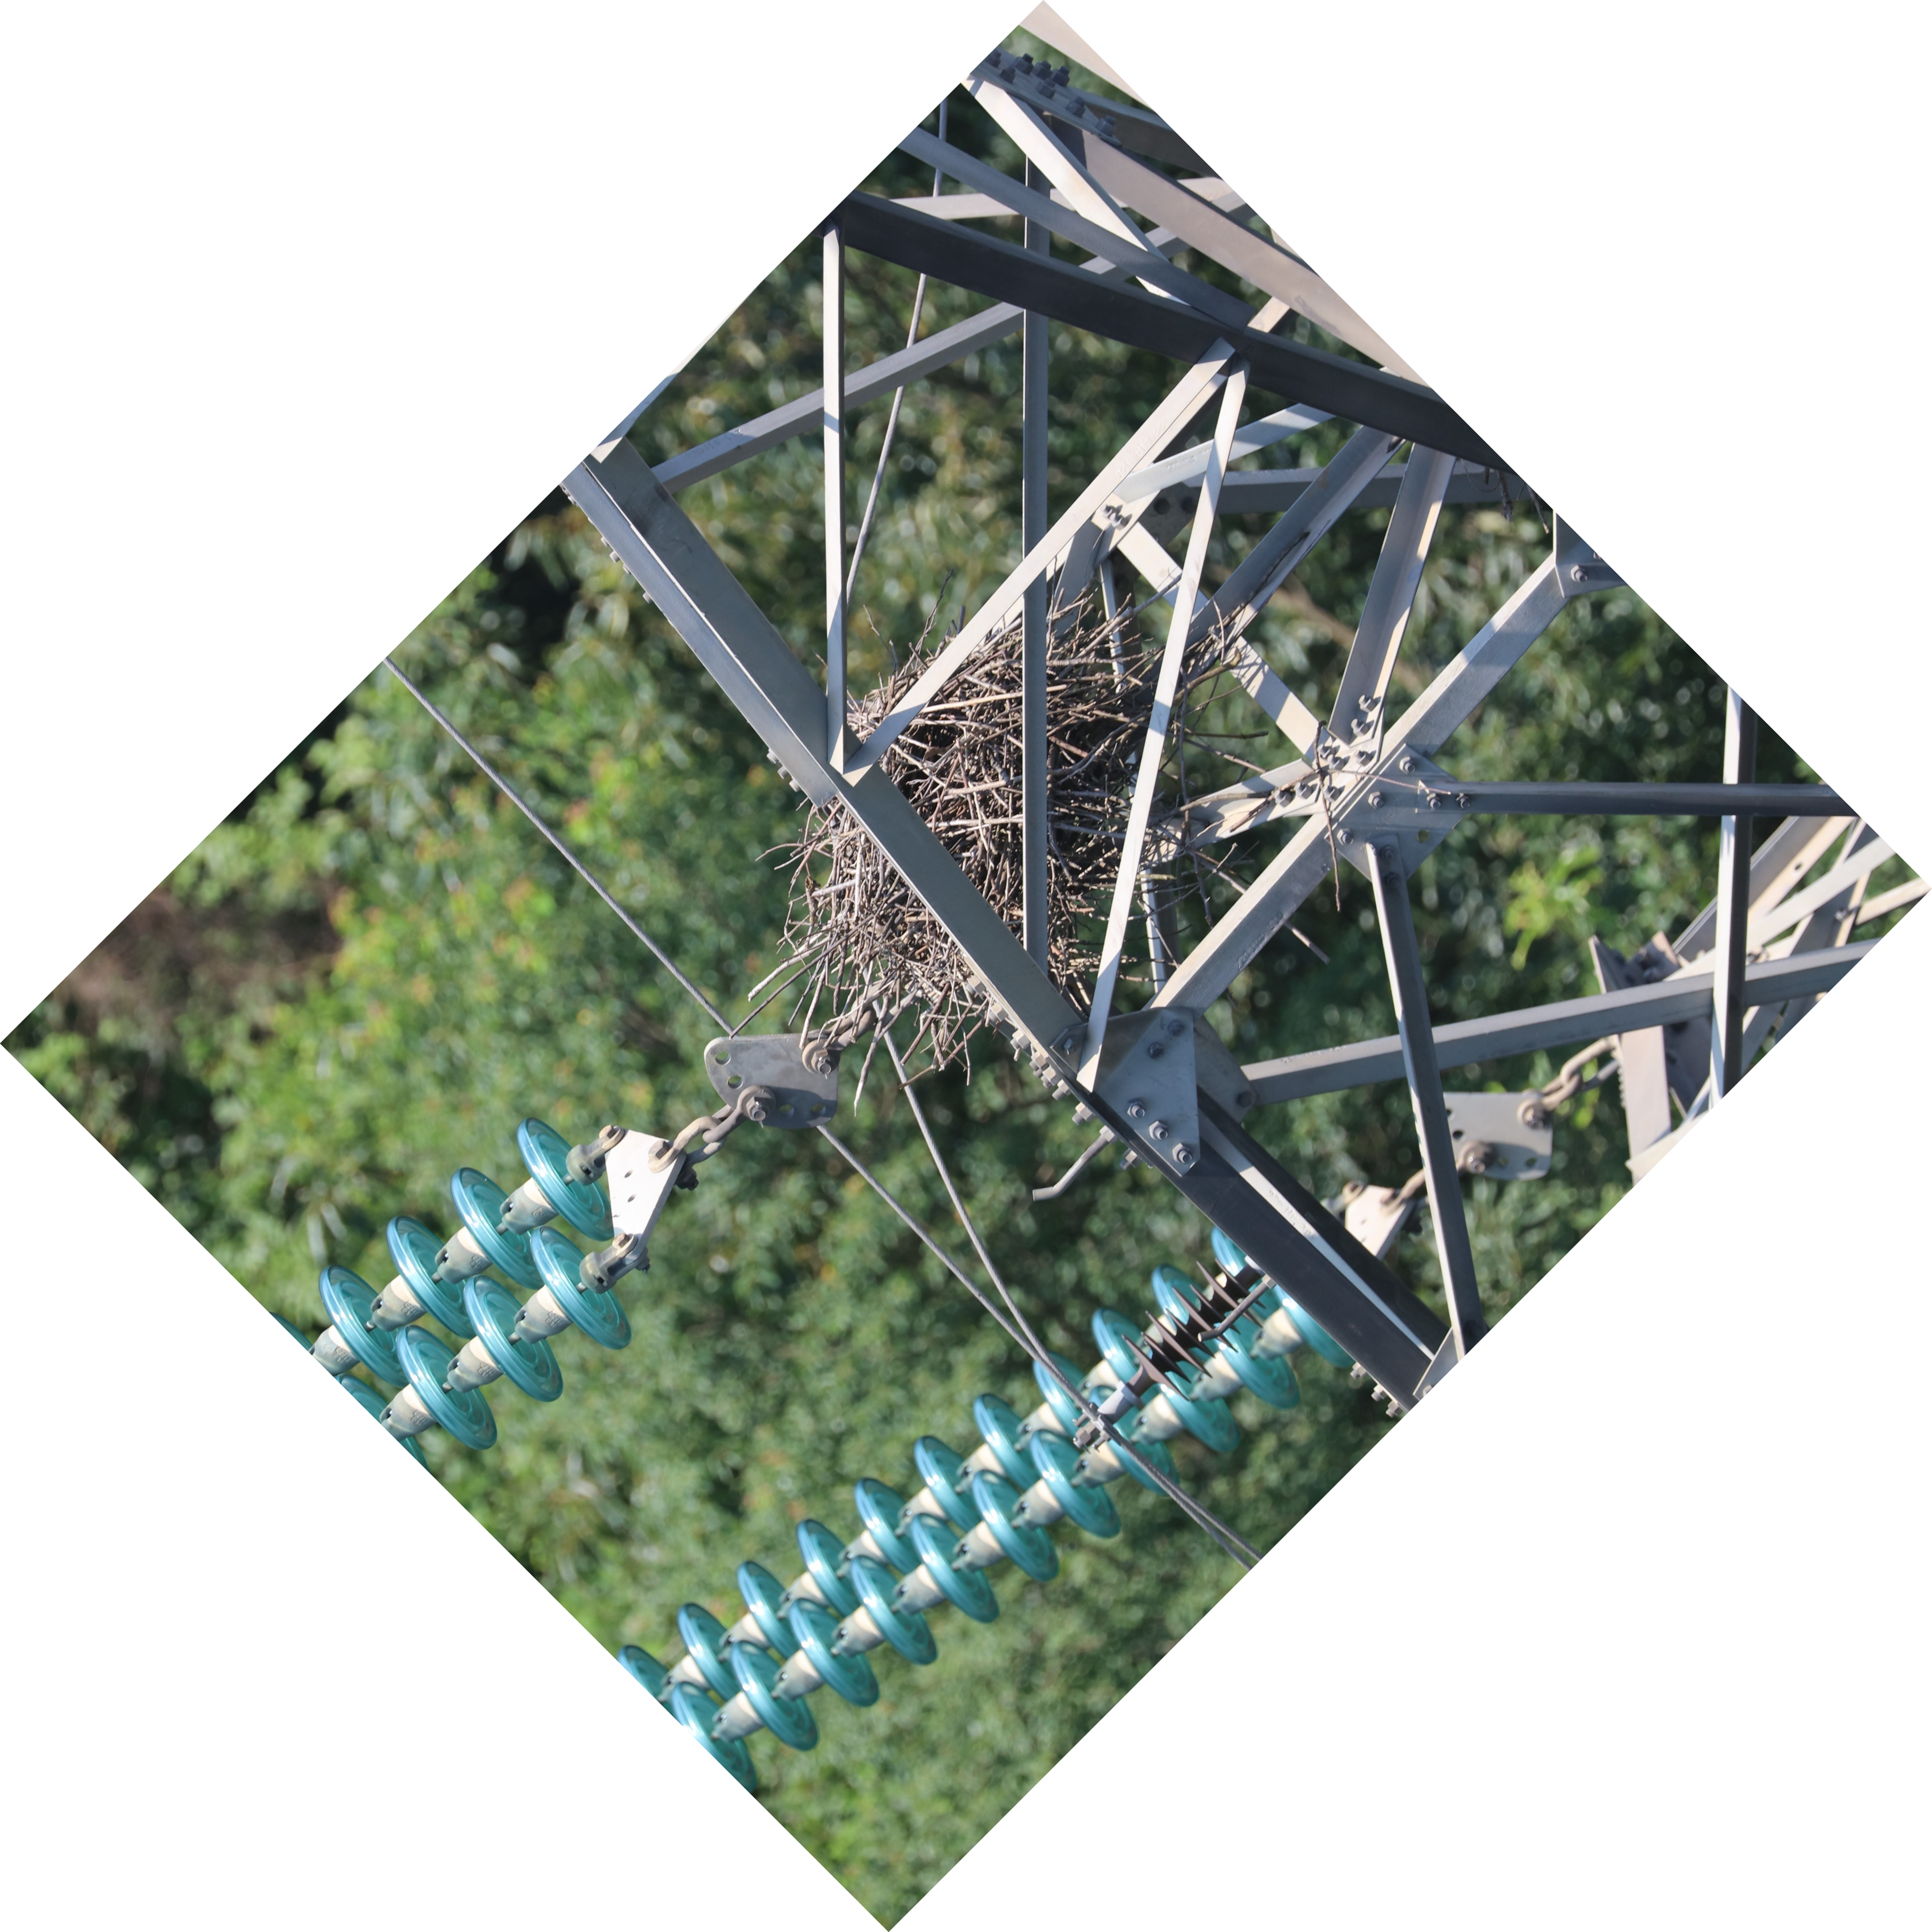niaowo: (755, 598, 1231, 1051)
